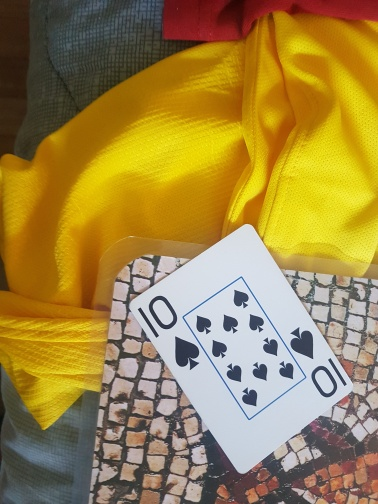ten: (128, 223, 352, 474)
